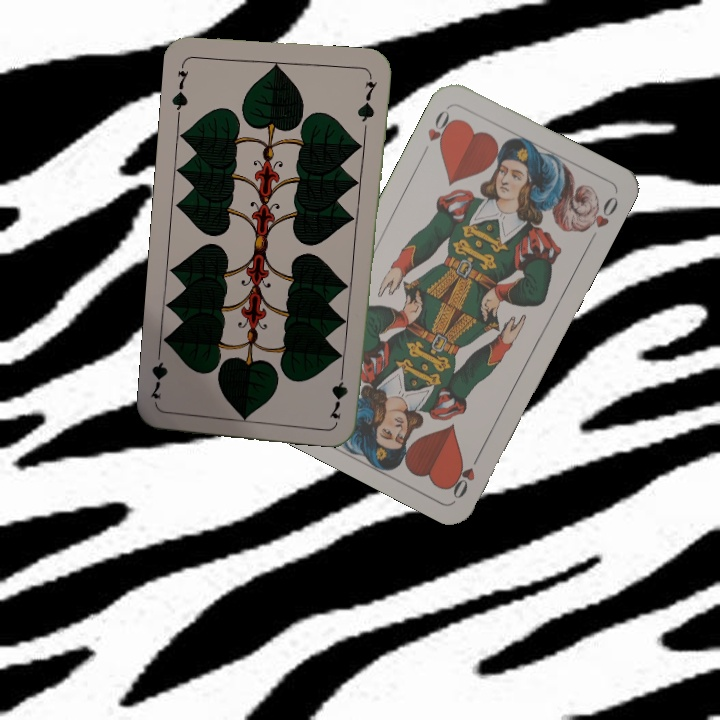G7: (168, 59, 191, 118), (329, 362, 350, 421)
HO: (446, 447, 484, 502), (418, 106, 458, 158)
